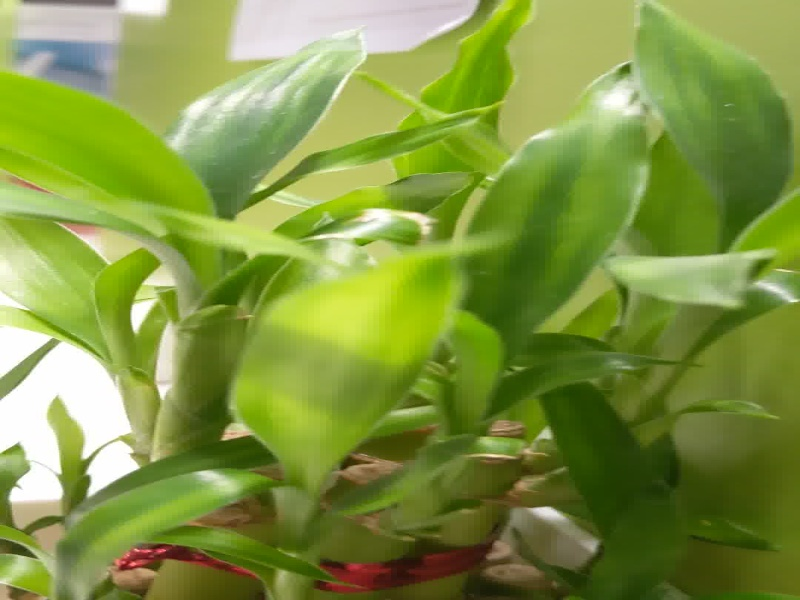bamboo: (3, 22, 799, 600)
